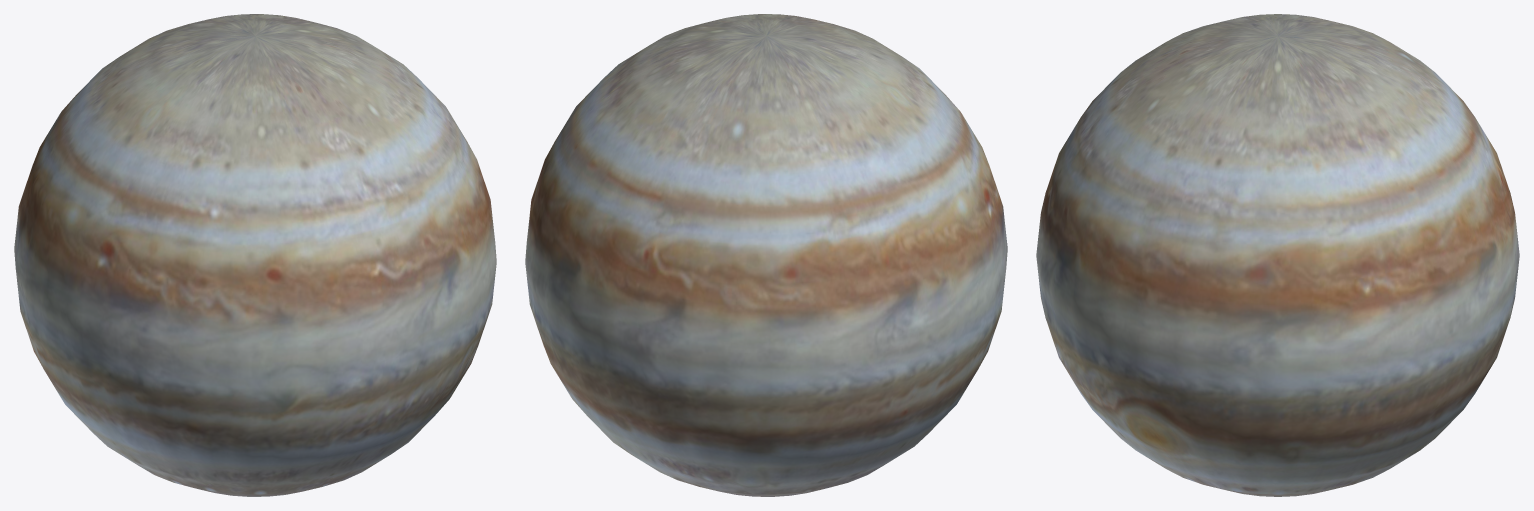
Rendered from Jupiter.glb.
3 views of the same model, side by side, from view 1: azimuth 30°, elevation 25°; view 2: azimuth 150°, elevation 25°; view 3: azimuth 270°, elevation 25° (orthographic).
Visible parts, largest first — view 1: Material_001-material; view 2: Material_001-material; view 3: Material_001-material.
Part boxes in pixels (x1=…): Material_001-material: x1=14, y1=14, x2=496, y2=496; Material_001-material: x1=525, y1=14, x2=1007, y2=496; Material_001-material: x1=1036, y1=14, x2=1519, y2=496.
Size of the model in its own units: 0.4422 by 0.4422 by 0.4422.
1 material, 1 textured.
